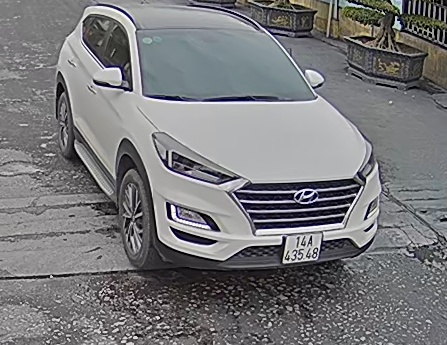vehicle plate: (277, 226, 322, 264)
